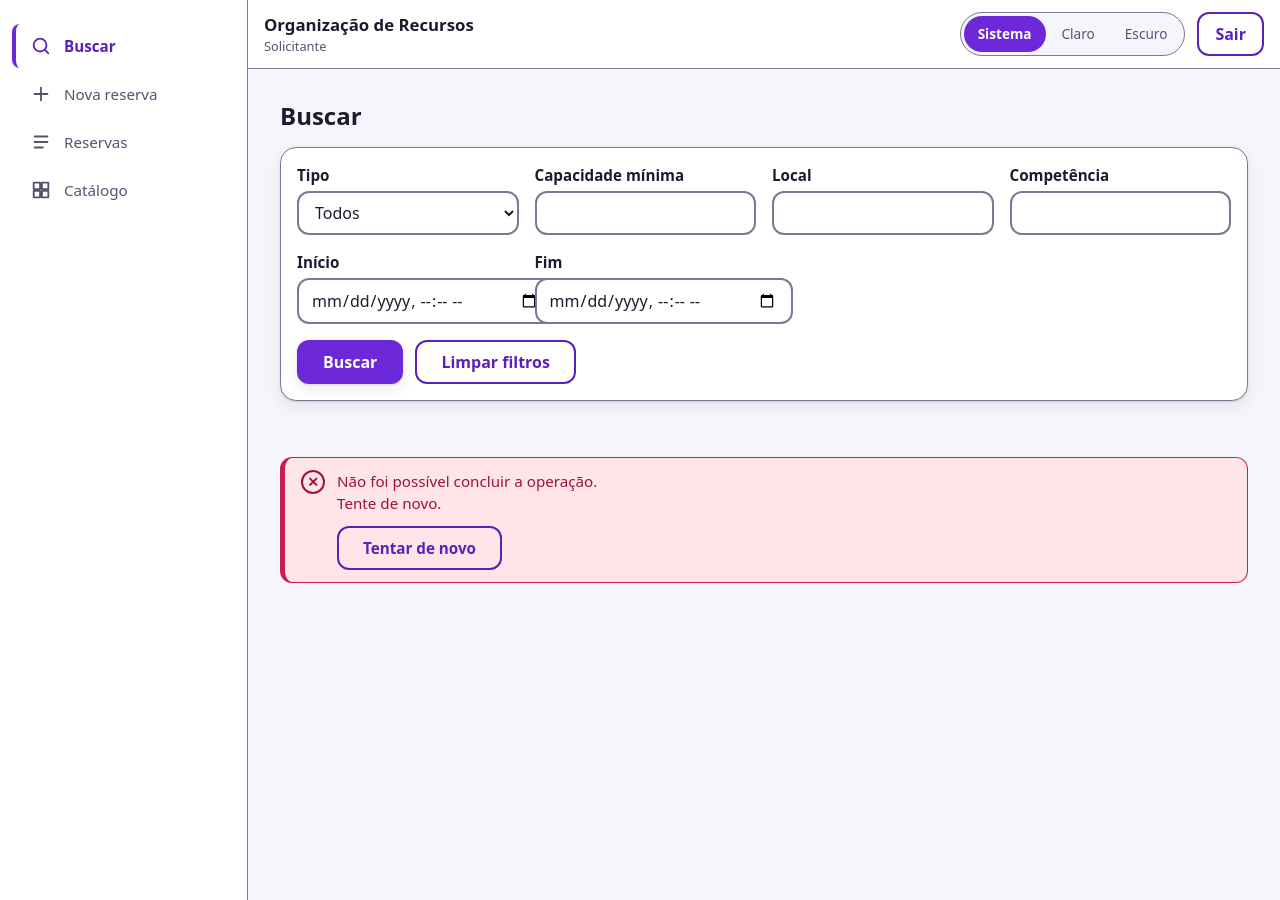
Test: Rotas › Sair revoga a sessão no servidor, apaga a local e volta à tela de entrada
The width and height of the screenshot is (1280, 900).
Click the button "Sair" at (1231, 34), box 1197,12 -> 1264,56
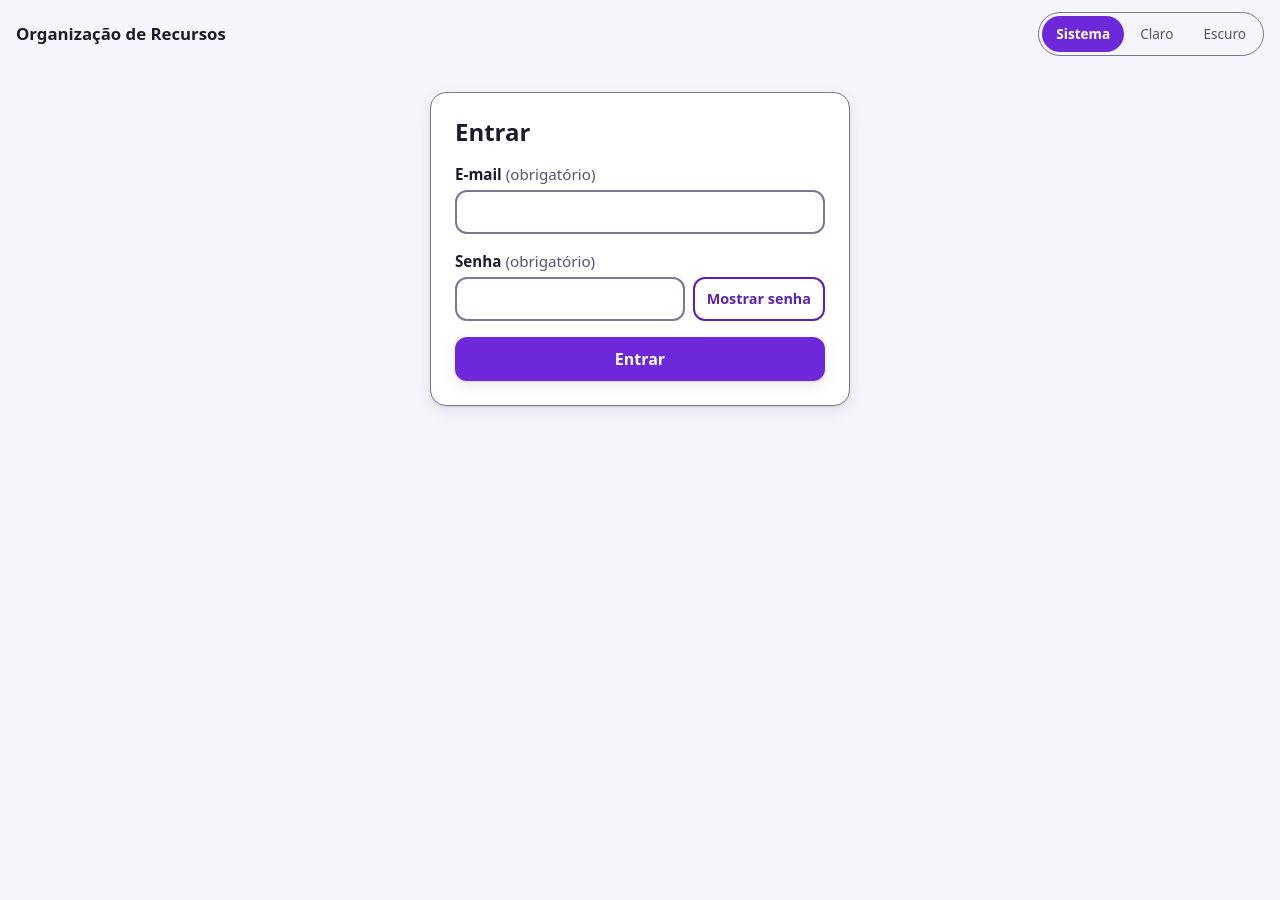
Now the heading "Entrar" is shown, box 455,115 -> 530,148
